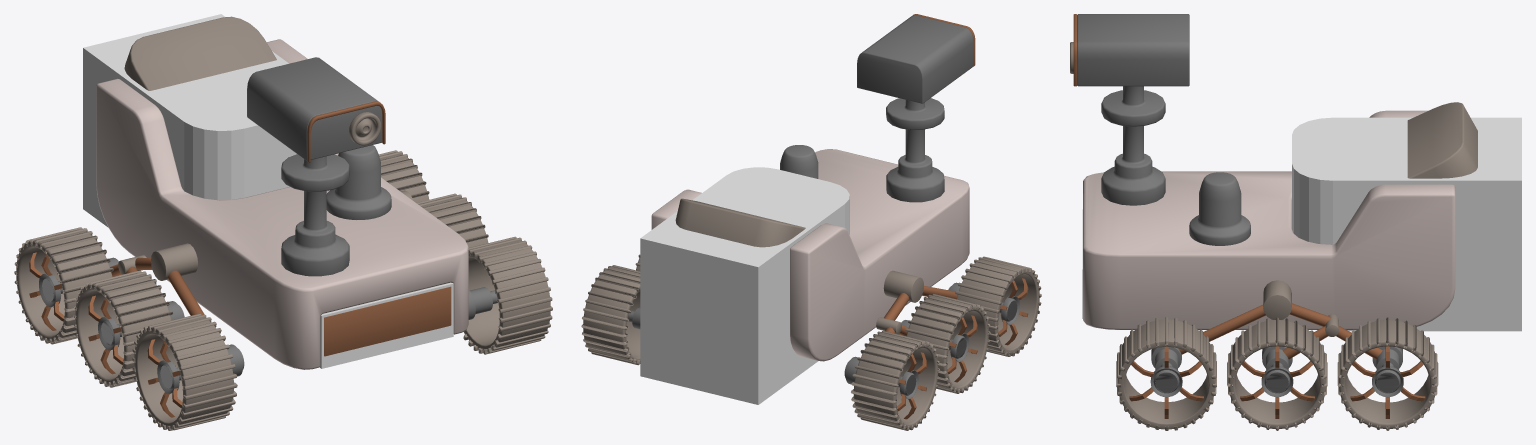
Rendered from Rover.gltf.
3 views of the same model, side by side, from view 1: azimuth 30°, elevation 25°; view 2: azimuth 150°, elevation 25°; view 3: azimuth 270°, elevation 25° (orthographic). The views are drawn at different scales.
Parts seen in each view (by area): view 1: Plane, Cube, Circle.010, Plane.001, Plane.002, Circle.011, Circle.001, Circle.008, Circle.003, Cube.002, Circle.013, Circle.002 (+12 smaller); view 2: Cube, Plane, Circle.008, Plane.001, Circle.009, Circle.003, Circle.001, Circle.010, Plane.002, Circle.011, Circle.002, Circle.013 (+8 smaller); view 3: Plane, Cube, Plane.001, Circle.003, Plane.002, Circle.001, Circle.010, Circle.008, Circle.013, Circle.011, Circle.009, Circle.002 (+9 smaller).
Boxes of the visible parts, x1,y1,x2,y2 form: Plane: (96, 39, 468, 369); Cube: (83, 14, 296, 227); Circle.010: (134, 238, 550, 429); Plane.001: (247, 57, 382, 160); Plane.002: (124, 16, 276, 90); Circle.011: (132, 236, 552, 430); Circle.001: (75, 195, 488, 385); Circle.008: (16, 152, 429, 342); Circle.003: (281, 154, 349, 276); Cube.002: (324, 286, 451, 356); Circle.013: (326, 145, 391, 219); Circle.002: (73, 193, 488, 387); Cube: (640, 167, 849, 404); Plane: (651, 149, 969, 361); Circle.008: (583, 266, 938, 429); Plane.001: (857, 15, 973, 103); Circle.009: (581, 265, 939, 430); Circle.003: (886, 98, 944, 202); Circle.001: (636, 257, 988, 392); Circle.010: (957, 258, 1039, 355); Plane.002: (675, 198, 805, 247); Circle.011: (955, 256, 1041, 356); Circle.002: (635, 254, 990, 393); Circle.013: (780, 145, 818, 178); Plane: (1083, 110, 1455, 329); Cube: (1292, 117, 1521, 331); Plane.001: (1077, 14, 1189, 86); Circle.003: (1101, 86, 1165, 205); Plane.002: (1407, 102, 1477, 178); Circle.001: (1228, 320, 1326, 428); Circle.010: (1117, 319, 1215, 429); Circle.008: (1339, 320, 1436, 428); Circle.013: (1189, 172, 1250, 245); Circle.011: (1116, 317, 1216, 430); Circle.009: (1337, 317, 1438, 430); Circle.002: (1227, 317, 1327, 430).
Size of the model in its own units: 3.97 by 3.3 by 4.51.
